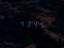five: (36, 20, 41, 28)
four: (30, 19, 35, 28), (18, 19, 23, 27)
three: (24, 19, 29, 27)
